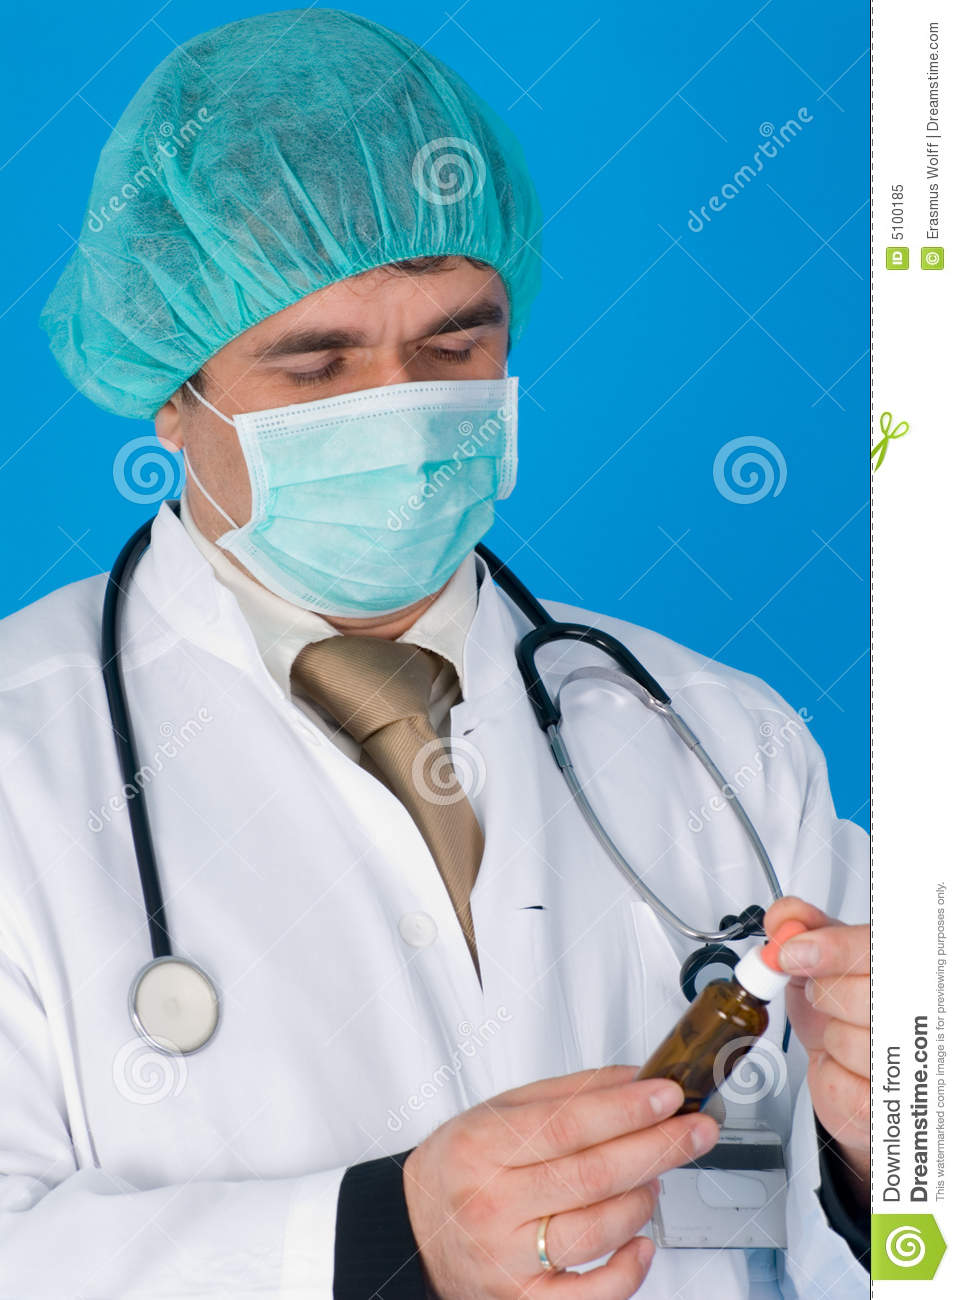mask: (222, 393, 538, 649)
